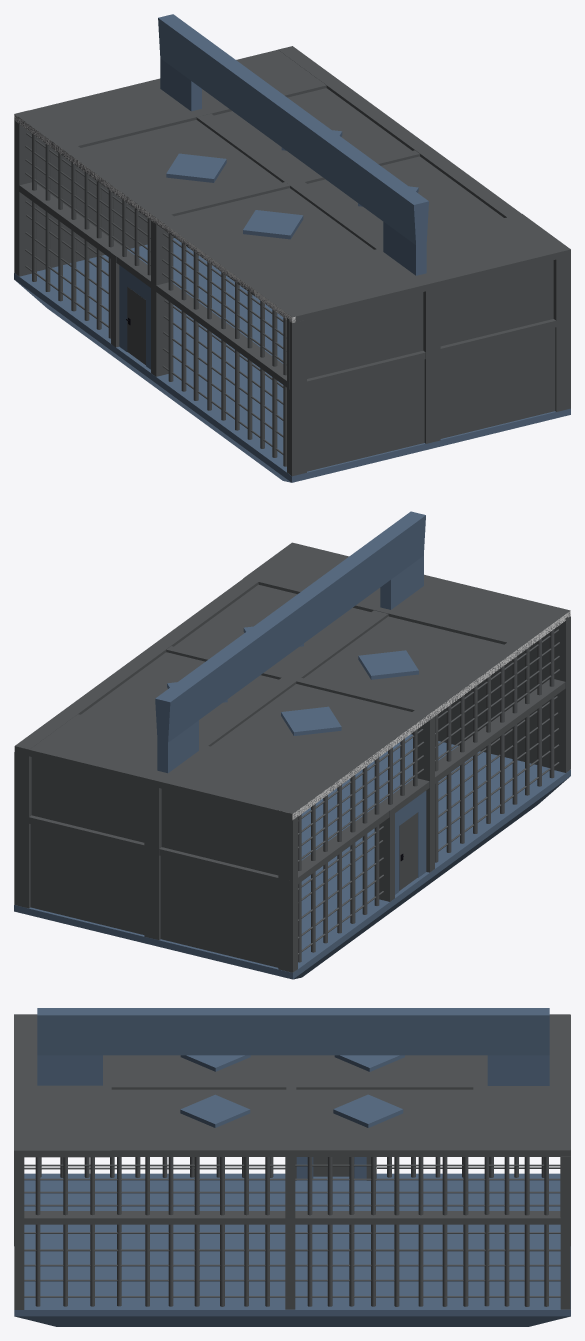
Rendered from gaioladefinitiva.fbx.
The picture shows the model from 3 angles, top to bottom: view 1: azimuth 30°, elevation 25°; view 2: azimuth 150°, elevation 25°; view 3: azimuth 270°, elevation 25°; orthographic projection.
Visible parts, largest first — view 1: Teto.012, Parede, Base, Alça, Teto.011, Teto.005, Teto.006, Teto, Teto.002, Teto.001, Parede.001, Teto.004 (+31 smaller); view 2: Teto.012, Parede.001, Base, Alça, Teto.010, Teto.006, Teto.005, Teto, Teto.002, Teto.001, Parede, Teto.004 (+31 smaller); view 3: Base, Alça, Teto.012, Teto.005, Teto.006, Teto.001, Teto.003, Teto.004, Pilar2.002, Pilar4, Pilar1, Cube.005 (+38 smaller).
Part boxes in pixels (<box>): Teto.012: <box>81,88,503,277</box>; Parede: <box>307,327,555,471</box>; Base: <box>14,238,570,482</box>; Alça: <box>158,14,428,275</box>; Teto.011: <box>287,260,553,389</box>; Teto.005: <box>258,214,570,322</box>; Teto.006: <box>29,49,326,147</box>; Teto: <box>14,110,306,322</box>; Teto.002: <box>17,182,286,387</box>; Teto.001: <box>278,46,570,252</box>; Parede.001: <box>37,175,174,271</box>; Teto.004: <box>196,113,439,291</box>; Teto.012: <box>81,584,503,774</box>; Parede.001: <box>30,824,278,967</box>; Base: <box>14,734,570,979</box>; Alça: <box>155,511,425,773</box>; Teto.010: <box>31,757,278,875</box>; Teto.006: <box>16,714,326,820</box>; Teto.005: <box>243,543,555,644</box>; Teto: <box>278,607,570,819</box>; Teto.002: <box>296,679,565,883</box>; Teto.001: <box>14,542,306,752</box>; Parede: <box>411,671,549,767</box>; Teto.004: <box>199,610,388,746</box>; Base: <box>14,1173,570,1326</box>; Alça: <box>37,1008,549,1085</box>; Teto.012: <box>111,1055,473,1143</box>; Teto.005: <box>14,1021,111,1157</box>; Teto.006: <box>473,1015,570,1155</box>; Teto.001: <box>14,1143,570,1156</box>; Teto.003: <box>24,1211,560,1224</box>; Teto.004: <box>111,1080,473,1089</box>; Pilar2.002: <box>285,1156,295,1309</box>; Pilar4: <box>560,1156,570,1309</box>; Pilar1: <box>14,1157,24,1309</box>; Cube.005: <box>333,1094,403,1127</box>.
Size of the model in its own units: 1304 by 1131 by 2250.
